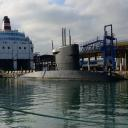submarine: (18, 45, 118, 82)
